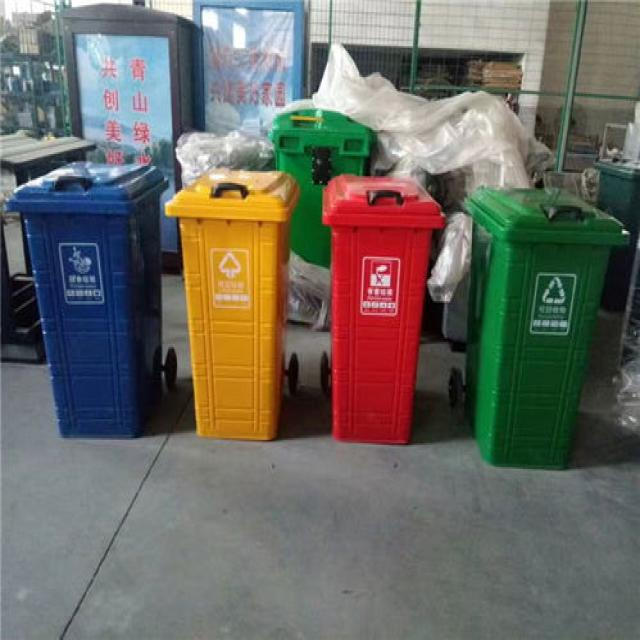garbage_bin: (459, 186, 629, 469), (6, 161, 168, 440), (163, 168, 297, 442), (321, 172, 444, 446), (267, 106, 369, 267)
